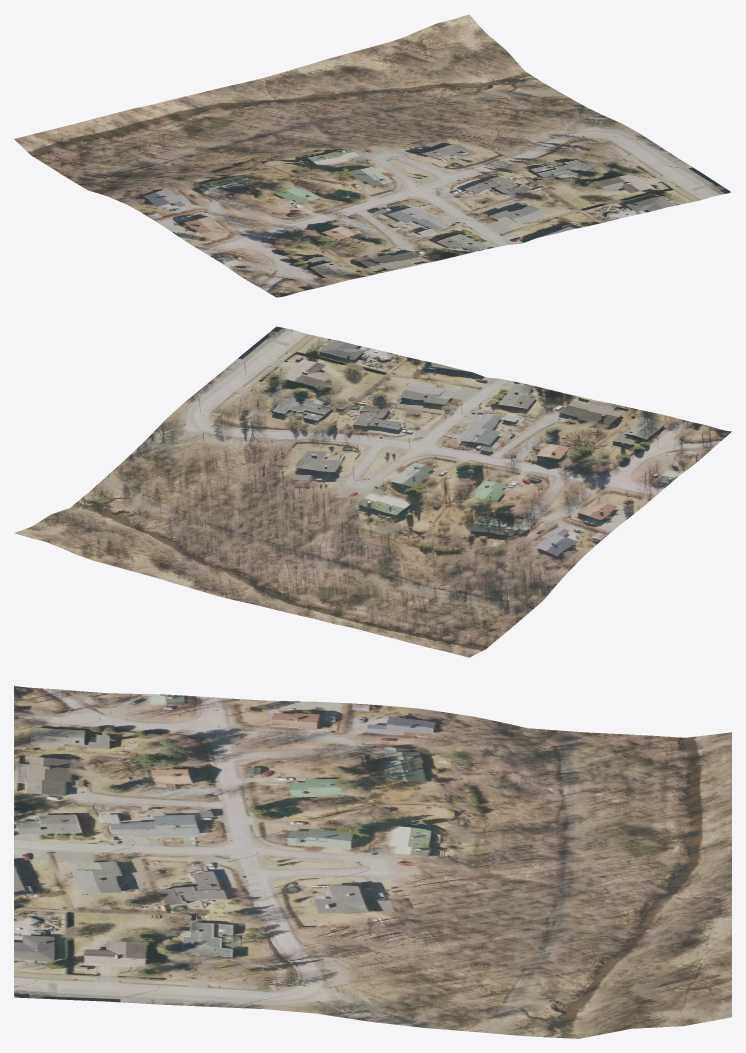
File: CM_Terrain_24491073_6818156.fbx
The picture shows the model from 3 angles, top to bottom: view 1: azimuth 30°, elevation 25°; view 2: azimuth 150°, elevation 25°; view 3: azimuth 270°, elevation 25°; orthographic projection. The views are drawn at different scales.
Parts seen in each view (by area): view 1: CM_Terrain_24491073_6818156_LOD0; view 2: CM_Terrain_24491073_6818156_LOD0; view 3: CM_Terrain_24491073_6818156_LOD0.
Boxes of the visible parts, x1,y1,x2,y2 form: CM_Terrain_24491073_6818156_LOD0: (14, 14, 731, 297); CM_Terrain_24491073_6818156_LOD0: (14, 326, 731, 657); CM_Terrain_24491073_6818156_LOD0: (14, 686, 731, 1038).
Size of what is drawn, in the model's own units: 205 by 17 by 205.
